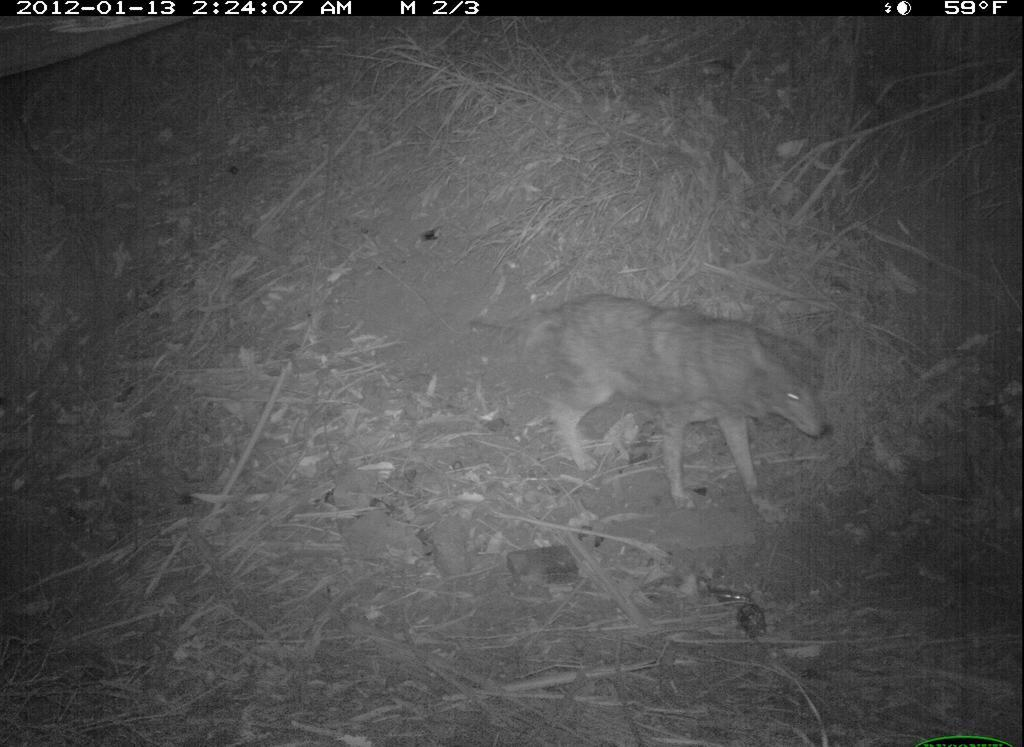coyote: (458, 290, 851, 518)
